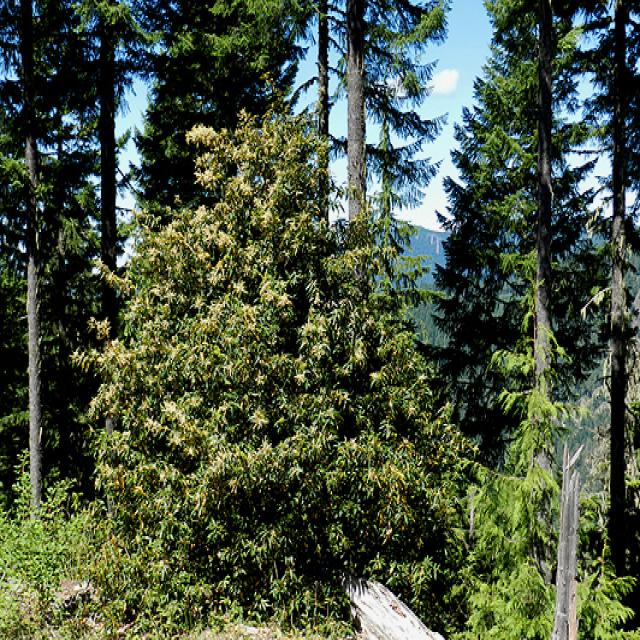Chrysolepis chrysophylla: (99, 107, 454, 616)
